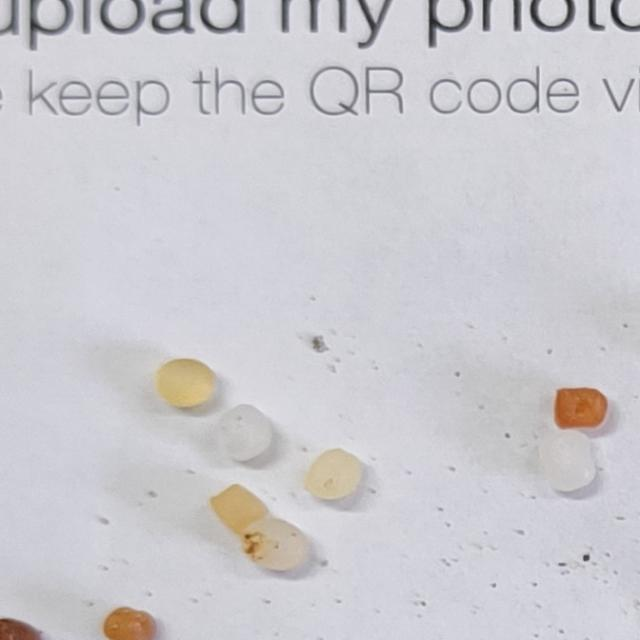beads: (207, 396, 280, 469), (300, 442, 370, 513), (535, 426, 604, 498), (238, 515, 311, 574), (152, 356, 218, 412), (103, 607, 155, 639)
fragments: (207, 478, 269, 540), (557, 389, 611, 433)
